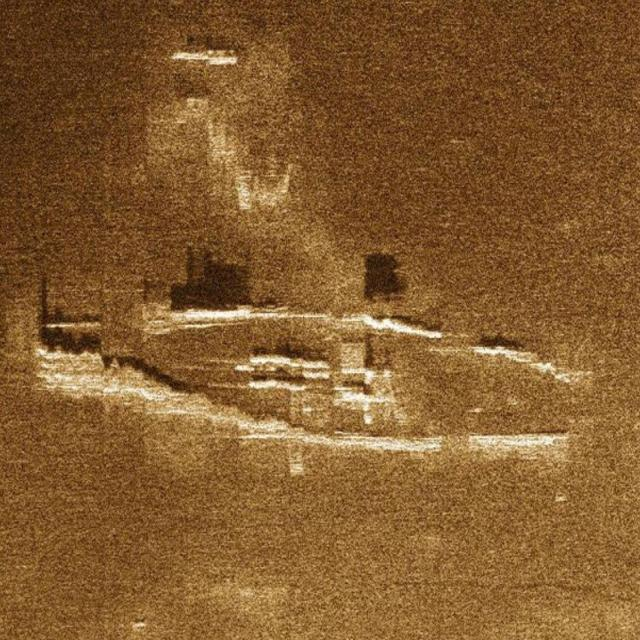shipwreck: (34, 296, 592, 462)
